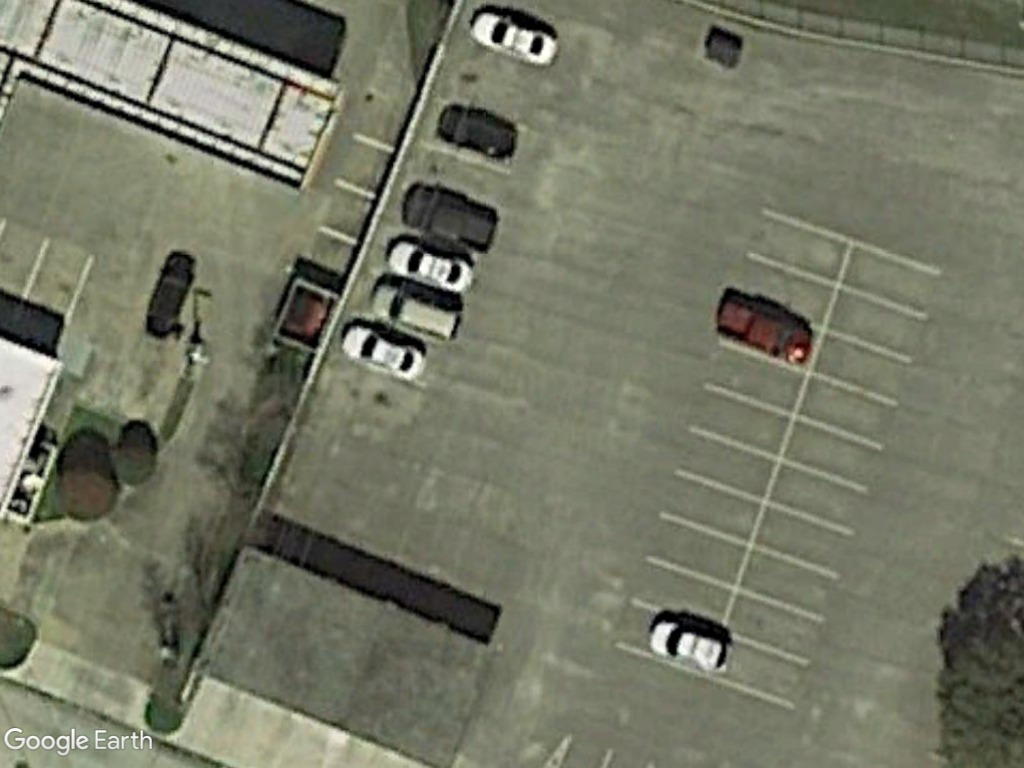car: (637, 610, 741, 680), (365, 280, 467, 344), (335, 320, 430, 388), (379, 233, 478, 295), (468, 9, 562, 71)
